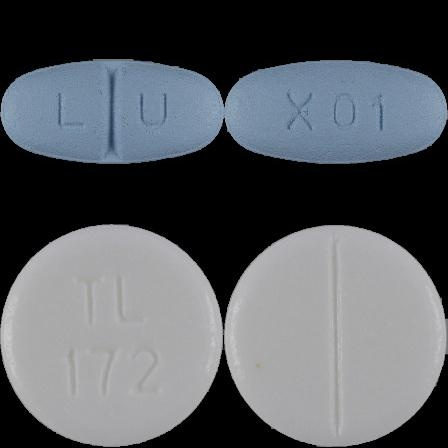61919-320: (0, 0, 224, 224)
